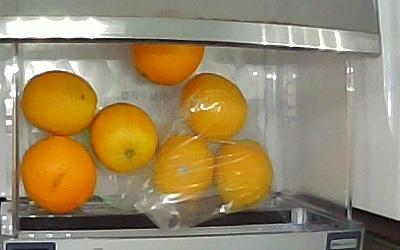orange: (19, 137, 96, 212), (90, 101, 159, 174), (22, 71, 98, 136), (129, 42, 204, 85)
orange_vinyl: (182, 74, 247, 141), (210, 141, 273, 208), (153, 135, 214, 199)
